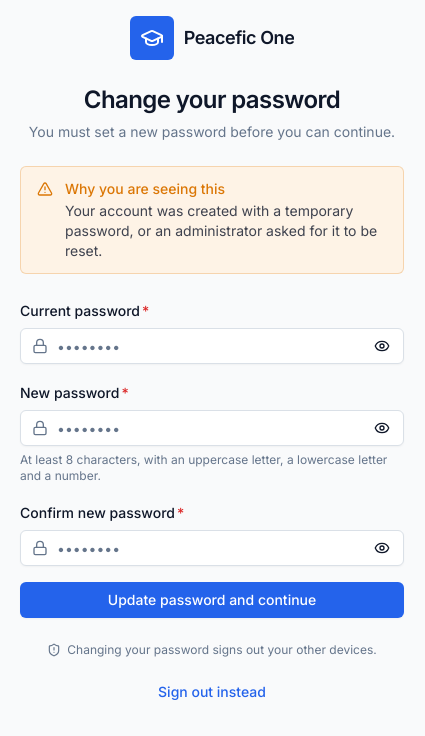
Test case: Change password page › puts a wrong current password on its own field
The image size is (425, 736).
Type "OldPassw0rd" into the password field labelled "Current password*" at [212, 346], box [20,328,404,364]
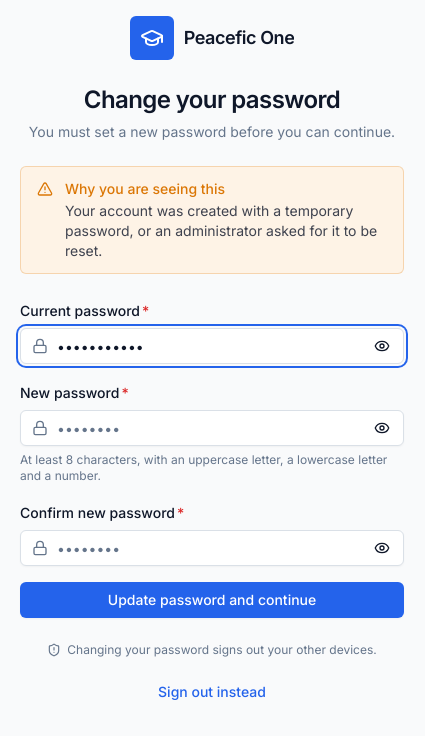
Type "NewPassw0rd" into the password field labelled "New password*" at [212, 428], box [20,410,404,446]
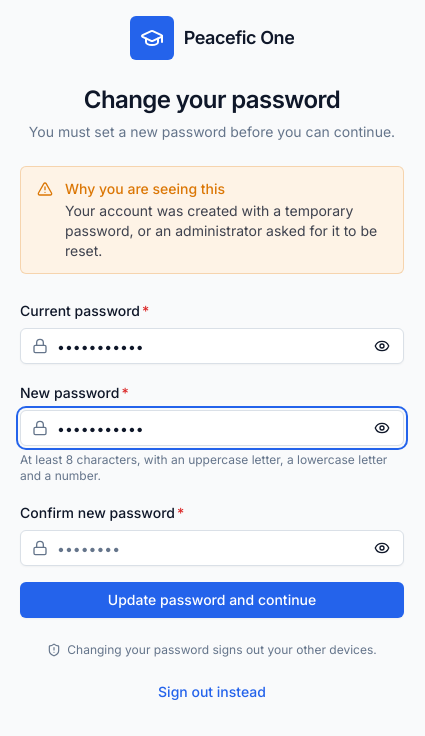
Type "NewPassw0rd" into the password field labelled "Confirm new password*" at [212, 548], box [20,530,404,566]
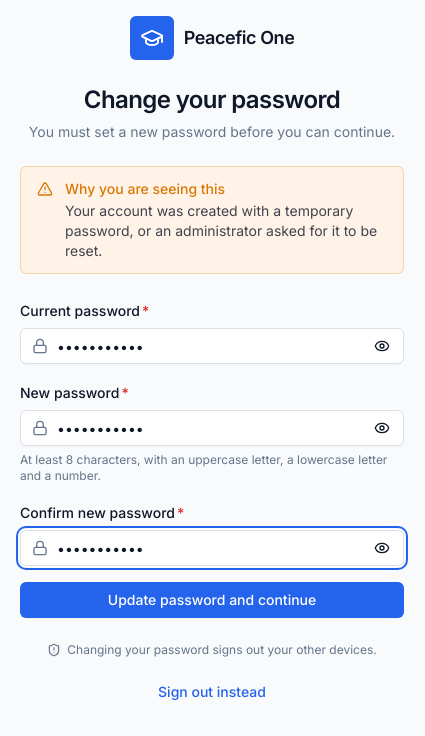
Click the button "Update password and continue" at [212, 600], box [20,582,404,618]
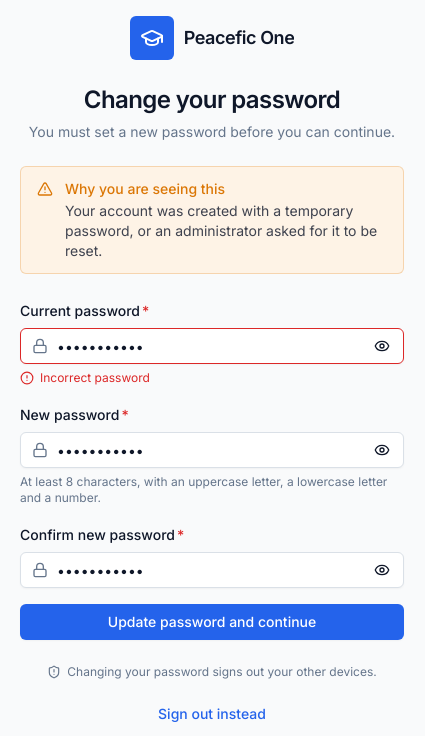
Result: the text "Incorrect password" is shown at [20,370,150,385]
